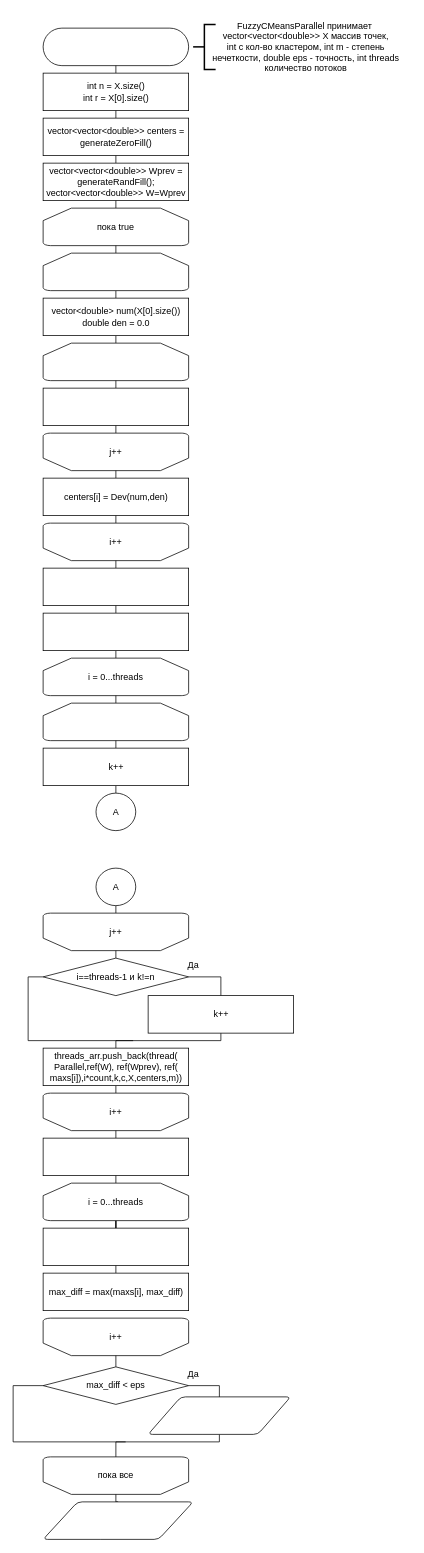
The diagram is 424 pixels wide and 1553 high, and some of its shapes have lost their labels. The centre of each missing label's shape, as x and y in pixels:
"break" belongs at (x=219, y=1415).
"double max_diff = 0.0" belongs at (x=115, y=1156).
"i = 0...c-1" belongs at (x=115, y=271).
"j = 0...count-1" belongs at (x=115, y=721).
"j = 0...n-1" belongs at (x=115, y=361).
"num = Sum(num, Mul(pow(W[i][j], m), X[j]) den += pow(W[i][j],m)" belongs at (x=115, y=406).
"return W" belongs at (x=117, y=1520).
"threads_arr[i].join()" belongs at (x=115, y=1246).
"vector<double> maxs(threads) int count = n / threads" belongs at (x=115, y=586).
"vector<thread> threads_arr int k = 0" belongs at (x=115, y=631).
"Начало" belongs at (x=115, y=46).
